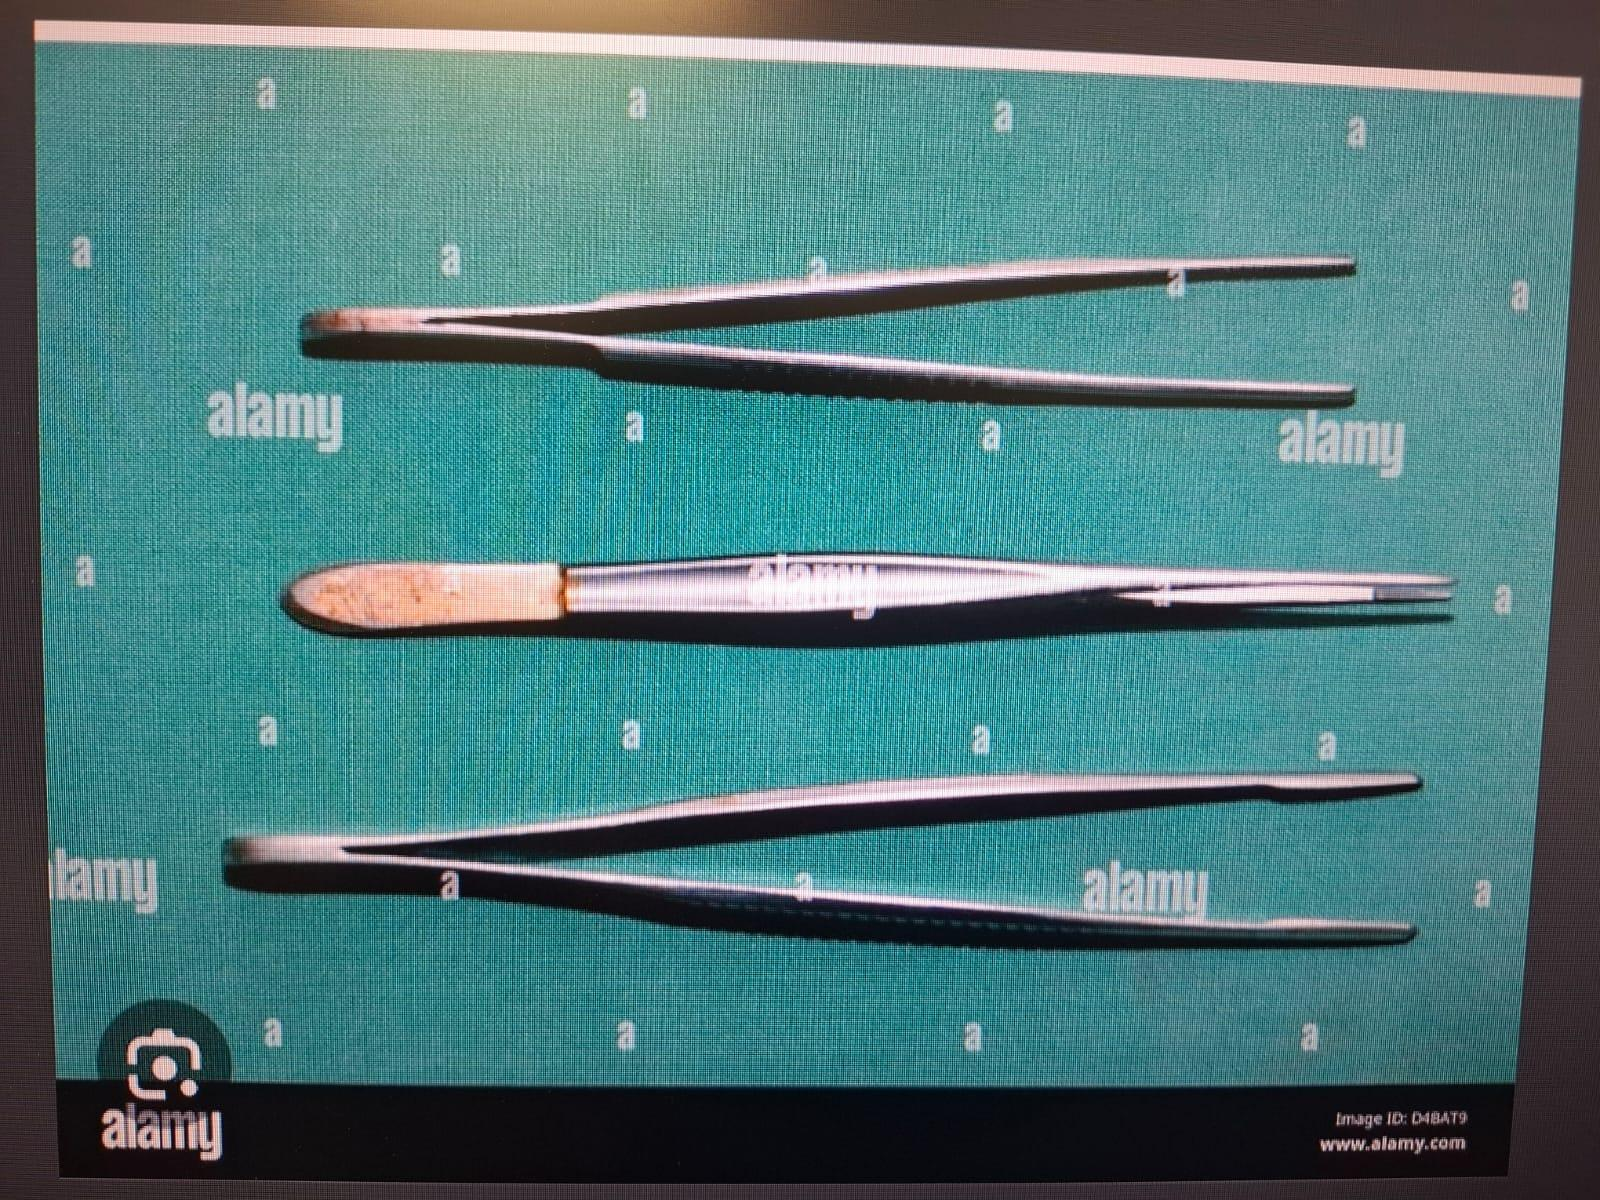Disscting Forceps: (202, 742, 1453, 995), (268, 216, 1392, 446), (270, 490, 1477, 698)
